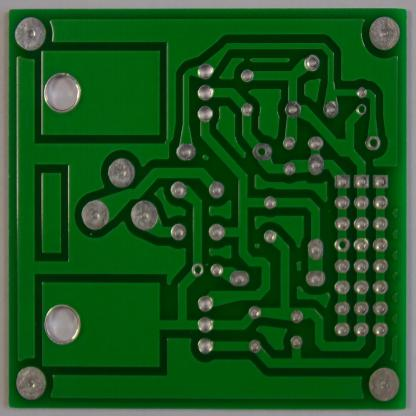missing_hole: (250, 140, 274, 162), (333, 236, 351, 254), (364, 134, 381, 150), (189, 262, 206, 278), (354, 101, 368, 118)
